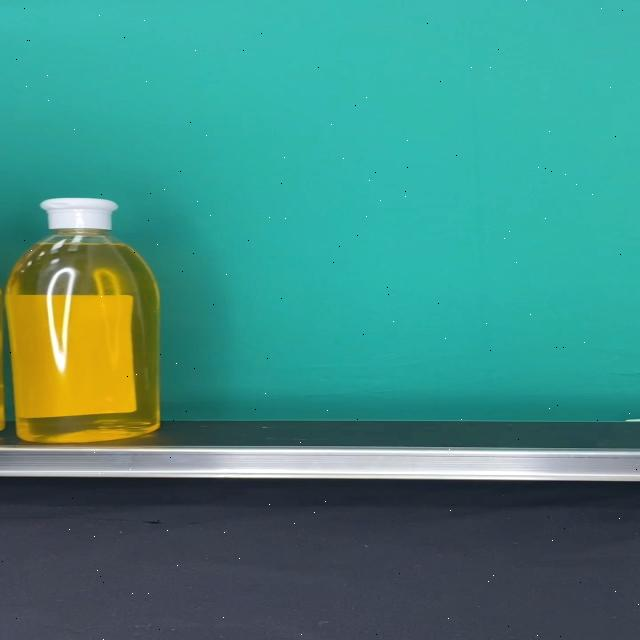Bottle: (5, 198, 160, 443)
Cap: (42, 198, 121, 230)
